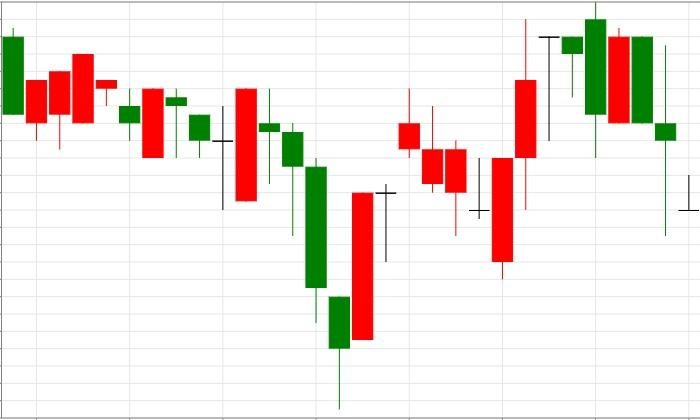hammer_rise: (258, 88, 350, 410)
shooting_star_fall: (329, 88, 420, 410)
